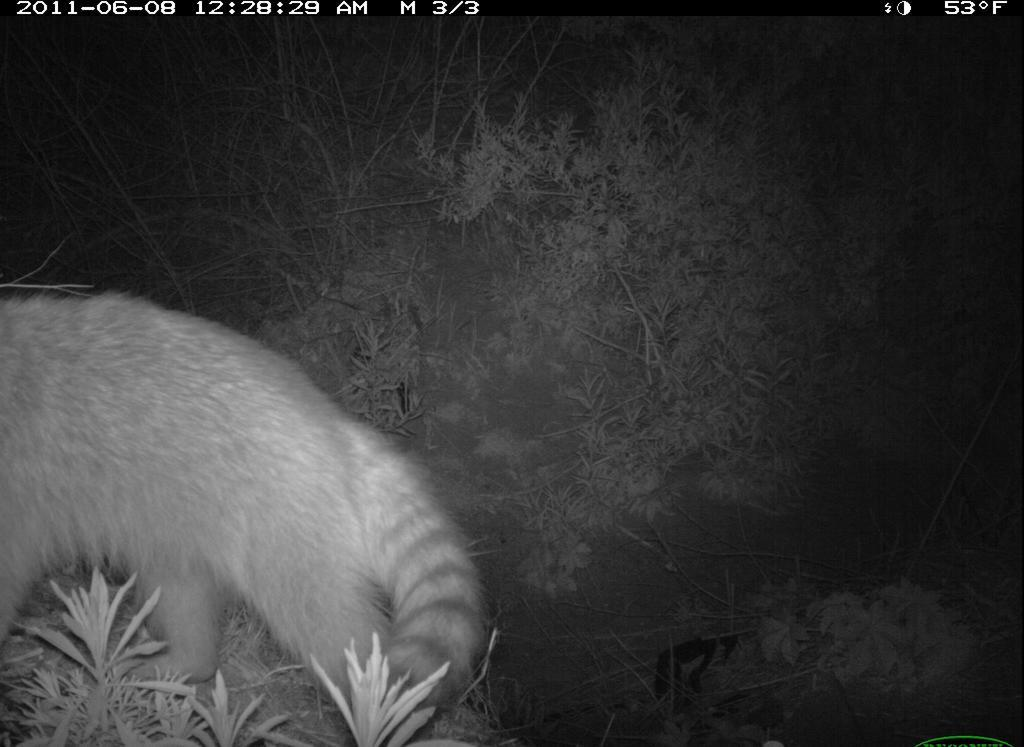raccoon: (1, 286, 501, 747)
